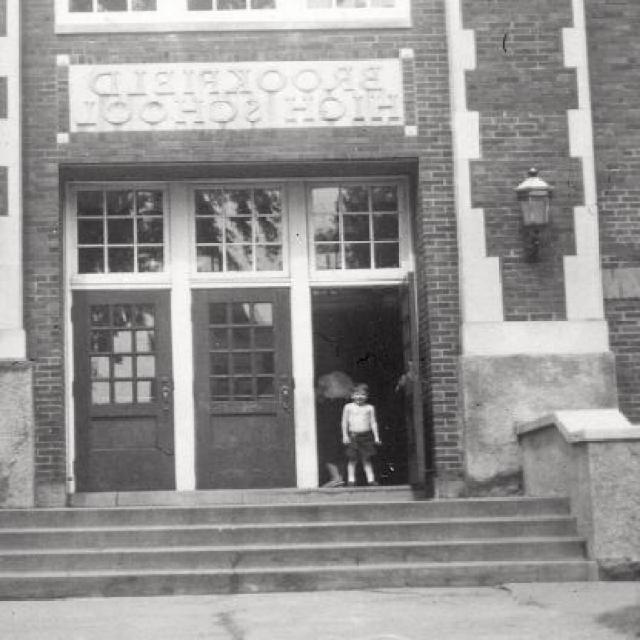stair: (0, 495, 602, 597)
